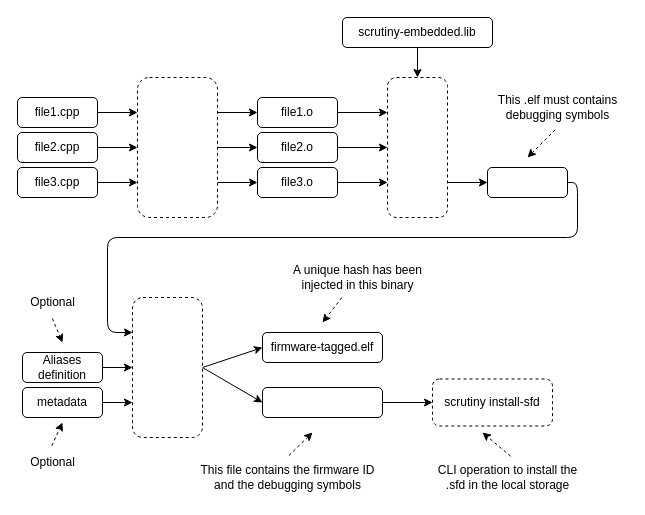
The diagram is 645 pixels wide and 515 high, and some of its shapes have lost their labels. Each missing label, with the centre of its shape:
"compiler (-g enabled)" belongs at (177,147).
"firmware.elf" belongs at (527,182).
"firmware.sfd" belongs at (322,402).
"linker" belongs at (417,147).
"scrutiny toolchain" belongs at (167,367).
